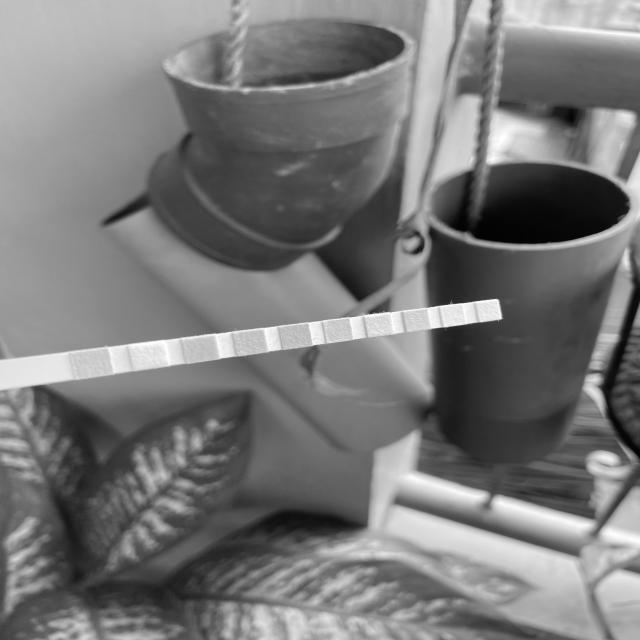Bilirubin: (134, 345, 164, 367)
Blood: (284, 327, 307, 346)
Glucose: (78, 353, 109, 374)
Ketone: (188, 340, 215, 360)
Leukocytes: (482, 302, 497, 320)
Nitrite: (445, 306, 461, 324)
Protein: (370, 316, 390, 334)
SpGravity: (239, 333, 263, 352)
Urobilinogen: (408, 313, 427, 329)
background: (0, 0, 640, 640)
pH: (329, 321, 350, 340)
strip: (2, 300, 502, 391)
